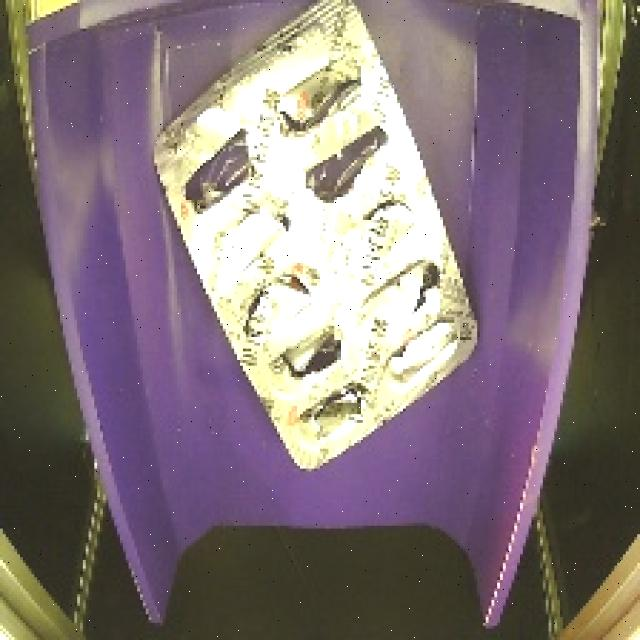med_plate: (135, 0, 490, 486)
